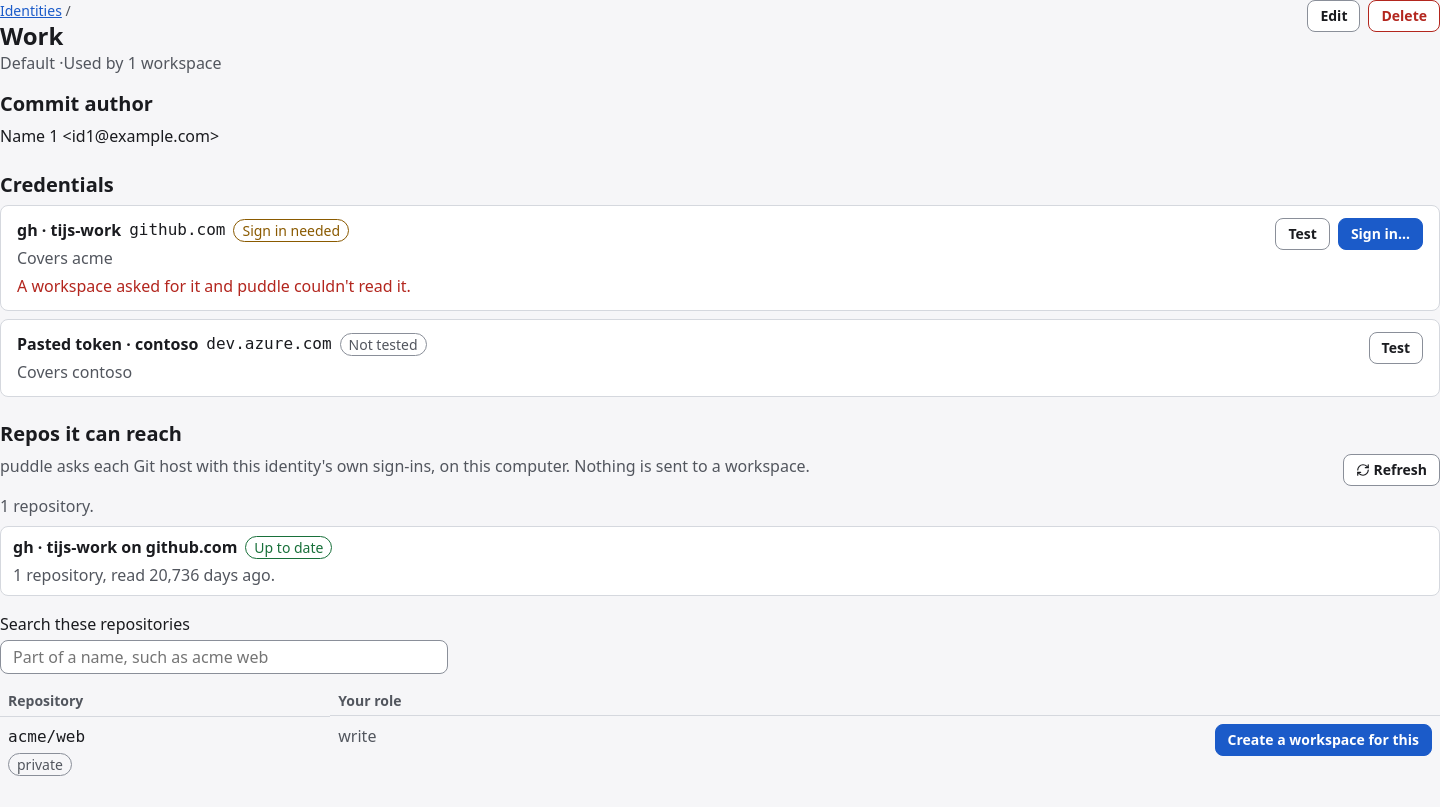
one identity › says why a sign-in could not start
expect the heading "Work" is shown: met, box [0, 19, 63, 52]
Click the button with aria-label "Sign in to gh" at (1380, 234), box [1338, 218, 1423, 250]
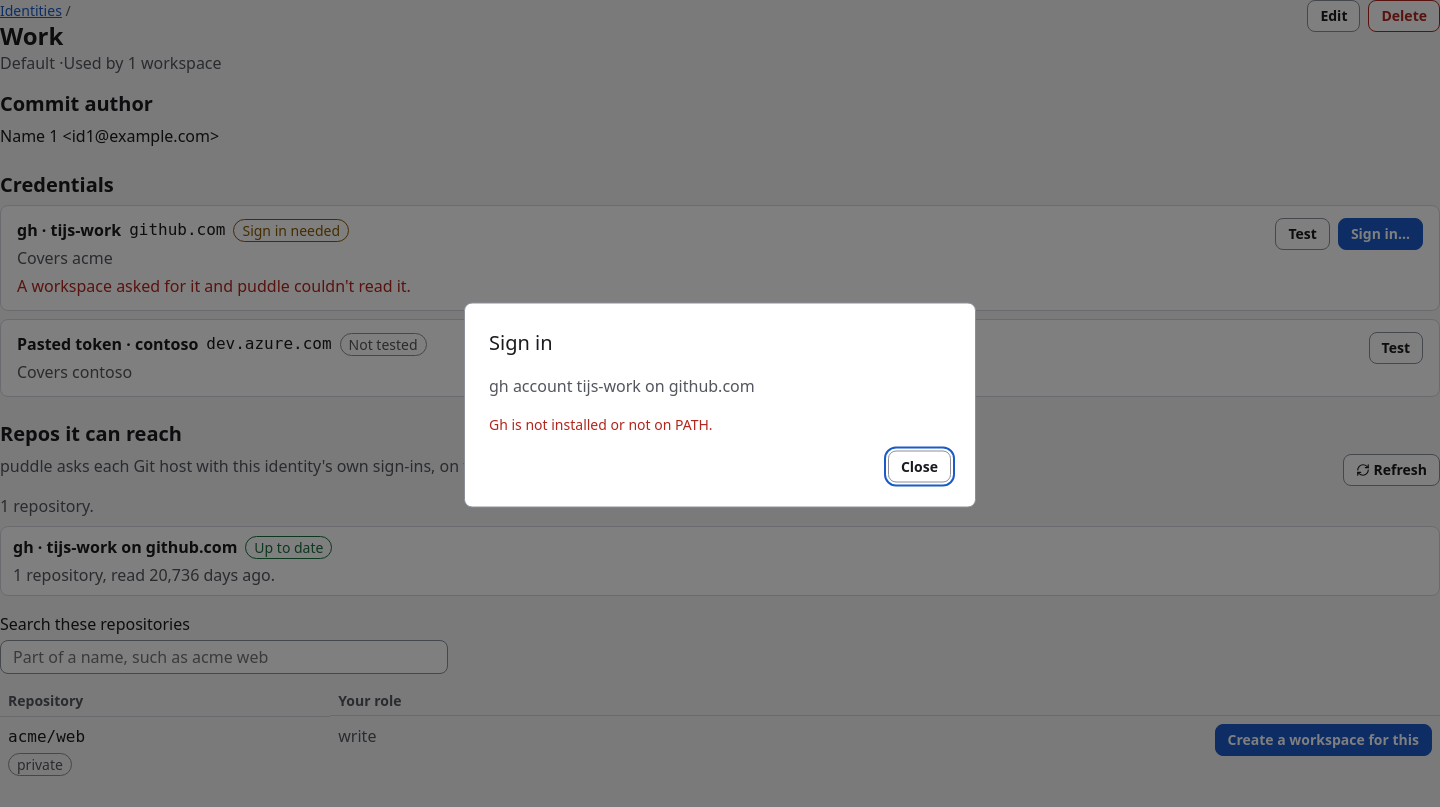
expect the message reads "Gh is not installed or not on PATH.": met, box [489, 414, 713, 434]
